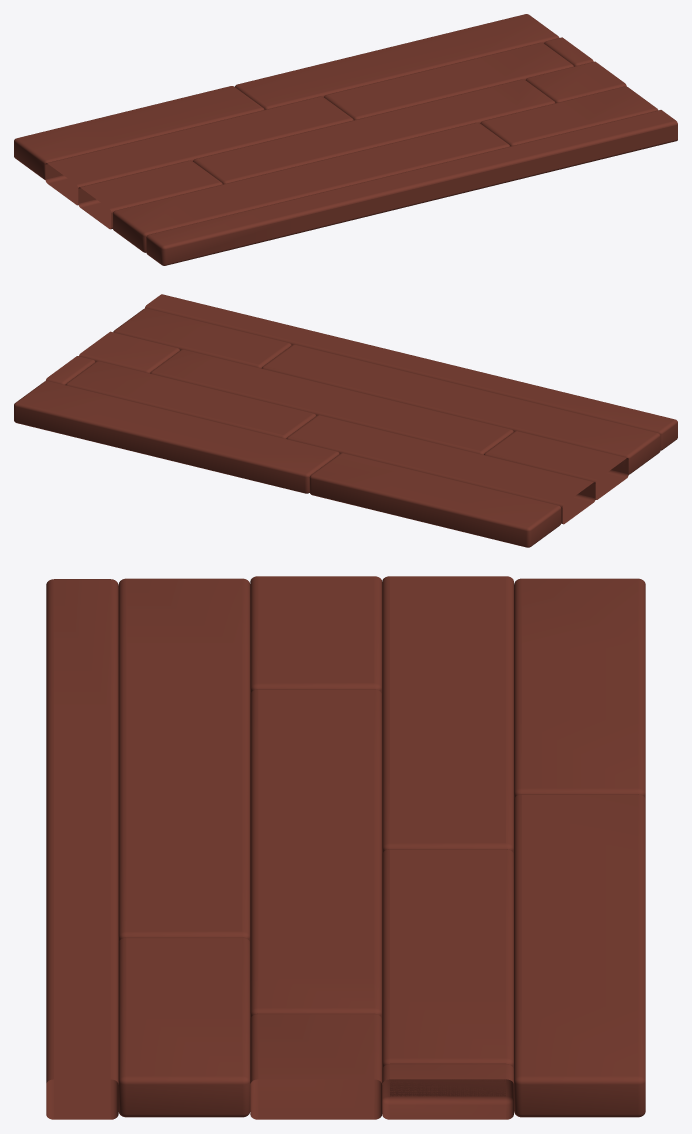
The model's file is SM_Ground_Wood_02.fbx.
The picture shows the model from 3 angles, top to bottom: view 1: azimuth 30°, elevation 25°; view 2: azimuth 150°, elevation 25°; view 3: azimuth 270°, elevation 25°; orthographic projection. The views are drawn at different scales.
Parts seen in each view (by area): view 1: Plane.019; view 2: Plane.019; view 3: Plane.019.
Part boxes in pixels (<box>): Plane.019: <box>14,14,677,265</box>; Plane.019: <box>14,294,677,547</box>; Plane.019: <box>46,576,645,1119</box>.
Bounding box in the file's own units: 400 × 15 × 202.
